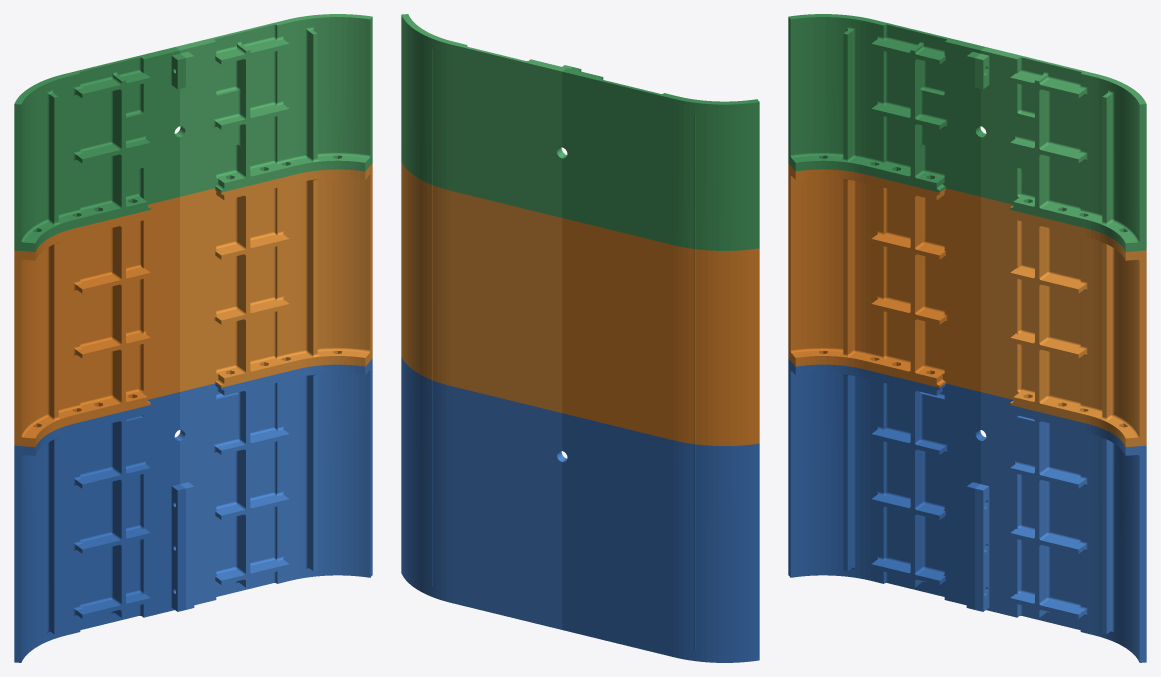
File: sta-plate-v04.glb
3 views of the same model, side by side, from view 1: azimuth 30°, elevation 25°; view 2: azimuth 150°, elevation 25°; view 3: azimuth 330°, elevation 25° (orthographic).
Visible parts, largest first — view 1: nedre_H, midt_H, nedre_V, midt_V, ovre_H, ovre_V; view 2: nedre_V, midt_V, nedre_H, midt_H, ovre_V, ovre_H; view 3: nedre_V, midt_V, nedre_H, midt_H, ovre_V, ovre_H.
Part boxes in pixels (left/top/right/bottom): nedre_H: left=175, top=358, right=372, bottom=609; midt_H: left=180, top=163, right=372, bottom=391; nedre_V: left=14, top=392, right=185, bottom=662; midt_V: left=14, top=197, right=179, bottom=446; ovre_H: left=175, top=14, right=372, bottom=196; ovre_V: left=14, top=47, right=185, bottom=251; nedre_V: left=562, top=413, right=759, bottom=662; midt_V: left=562, top=218, right=759, bottom=445; nedre_H: left=401, top=357, right=566, bottom=629; midt_H: left=401, top=161, right=562, bottom=412; ovre_V: left=562, top=67, right=759, bottom=250; ovre_H: left=401, top=14, right=572, bottom=217; nedre_V: left=788, top=358, right=985, bottom=609; midt_V: left=788, top=163, right=980, bottom=391; nedre_H: left=975, top=392, right=1146, bottom=662; midt_H: left=981, top=197, right=1146, bottom=446; ovre_V: left=788, top=14, right=985, bottom=196; ovre_H: left=975, top=47, right=1146, bottom=251.
Size of the model in its own units: 346 by 515 by 42.11.
